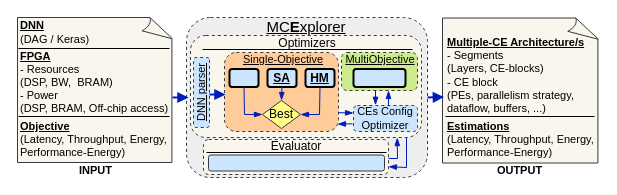
This 617x195 diagram has some shape labels left out. Here are the shapes that lost their labels. From the top down, the box of each, then its label:
(228, 68, 259, 88): GA
(352, 68, 406, 88): NSGA-II
(208, 154, 384, 171): MCCM Evaluation Methodology
